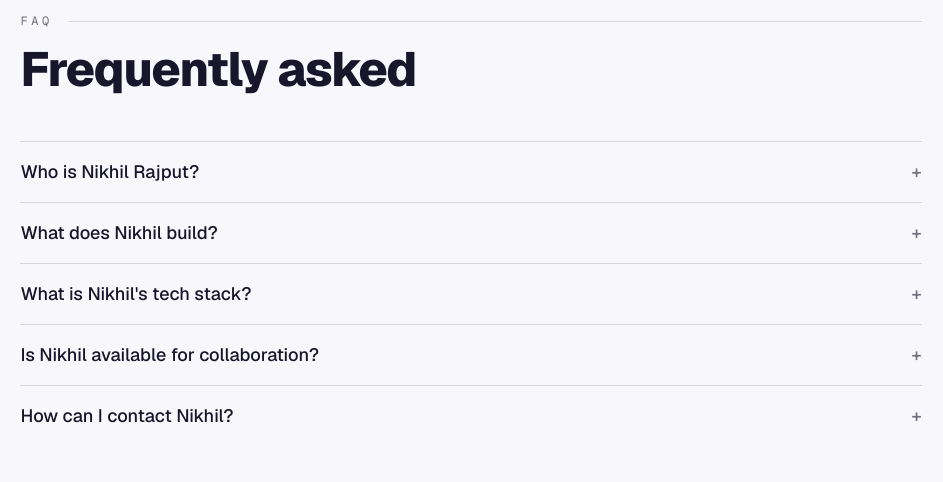
Test: Faq › collapses the answer when the button is clicked again
Click the button "Who is Nikhil Rajput? +" at [110, 172], box [20,142,922,202]
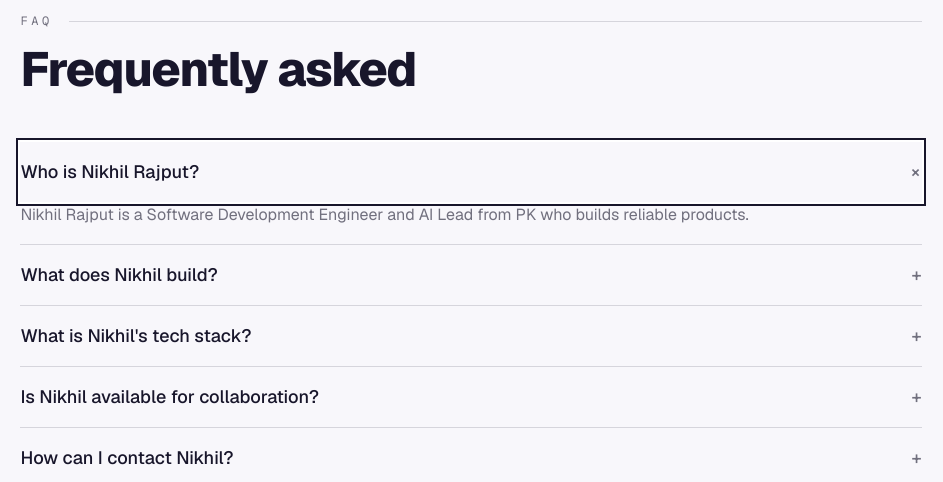
Expected: the button "Who is Nikhil Rajput? +" is expanded
Click the button "Who is Nikhil Rajput? +" at [110, 172], box [20,142,922,202]
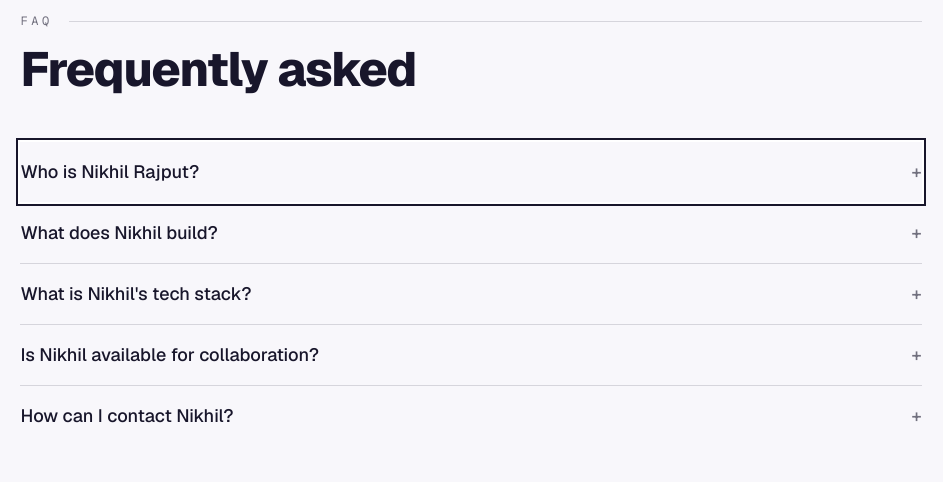
Expected: the button "Who is Nikhil Rajput? +" is collapsed, [20,142,922,202]
